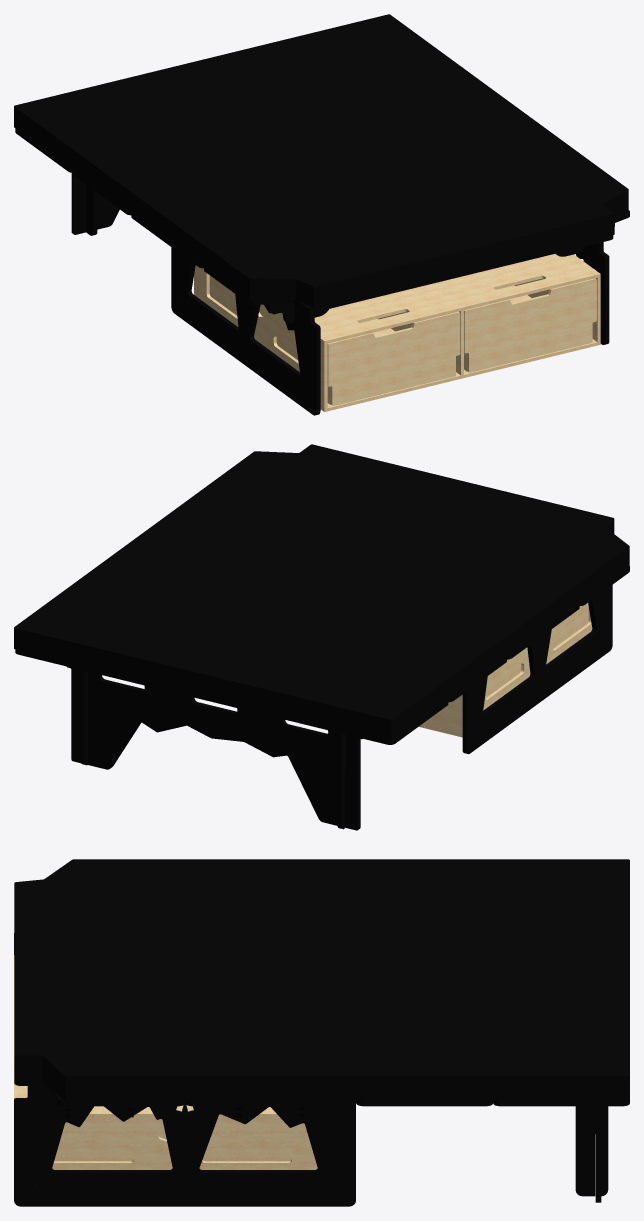
File: Cuillin_expedition_couchage.glb
3 renders of one model, top to bottom at view 1: azimuth 30°, elevation 25°; view 2: azimuth 150°, elevation 25°; view 3: azimuth 270°, elevation 25°, orthographic. The views are drawn at different scales.
Size of the model in its own units: 1.5 by 0.4976 by 1.8.
Materials: 2 (1 with a texture image).
